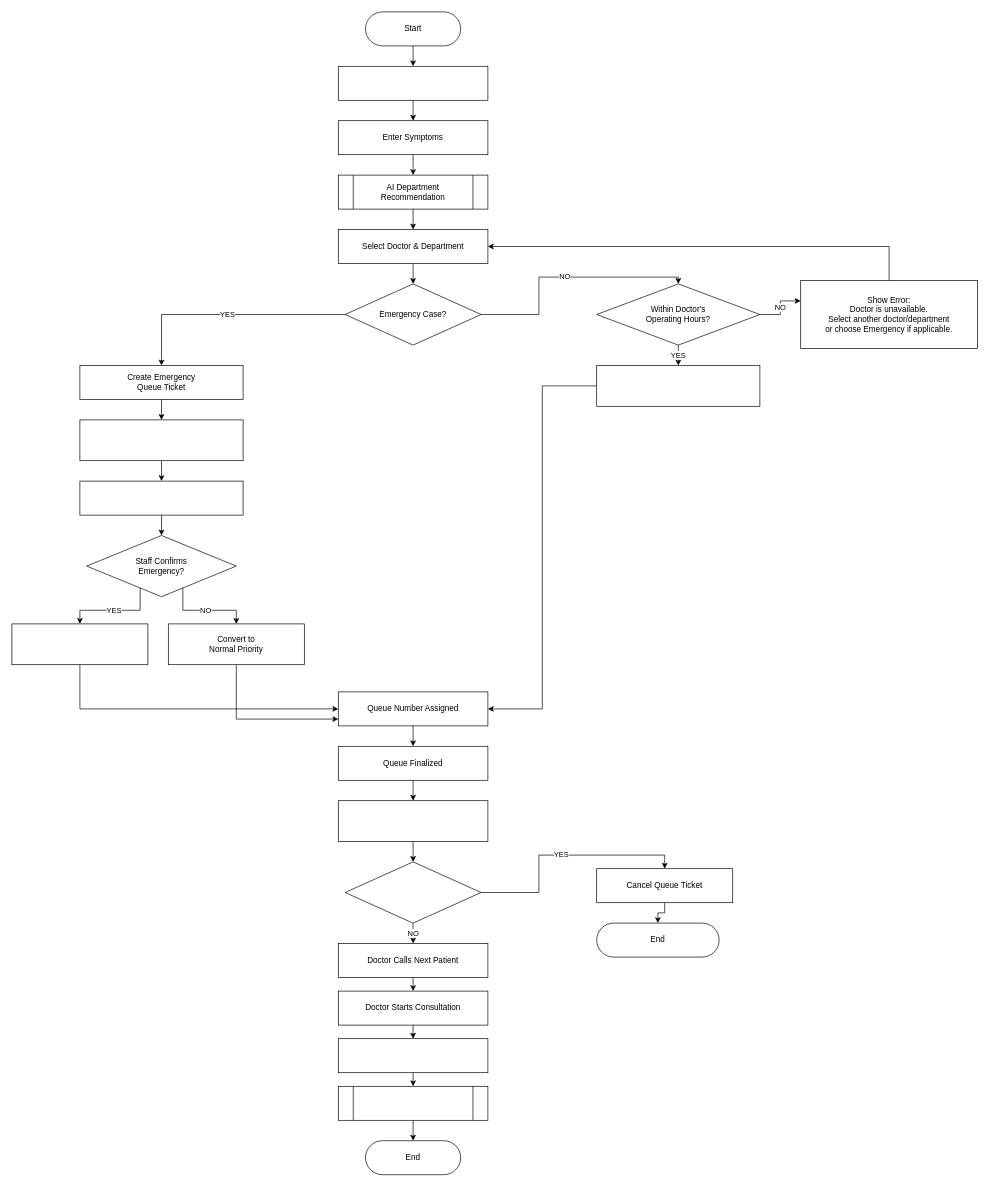
Image size: 989x1187. Some labels were removed from this diagram. The shapes that lost their labels are listed below. From the top down, each one's centre as x and y in pixels, then its label:
the point at 413,83: Patient Login / Register
the point at 678,385: Create Queue Ticket (Normal Priority)
the point at 161,440: Notify Patient: Awaiting Staff Confirmation
the point at 161,497: Staff Reviews Emergency
the point at 79,644: Reorder Queue / Move to Front
the point at 413,821: Patient Waits / Monitors Queue Status
the point at 412,892: Patient Cancels Ticket?
the point at 413,1055: Doctor Completes Consultation
the point at 413,1103: Generate AI SOAP Note
